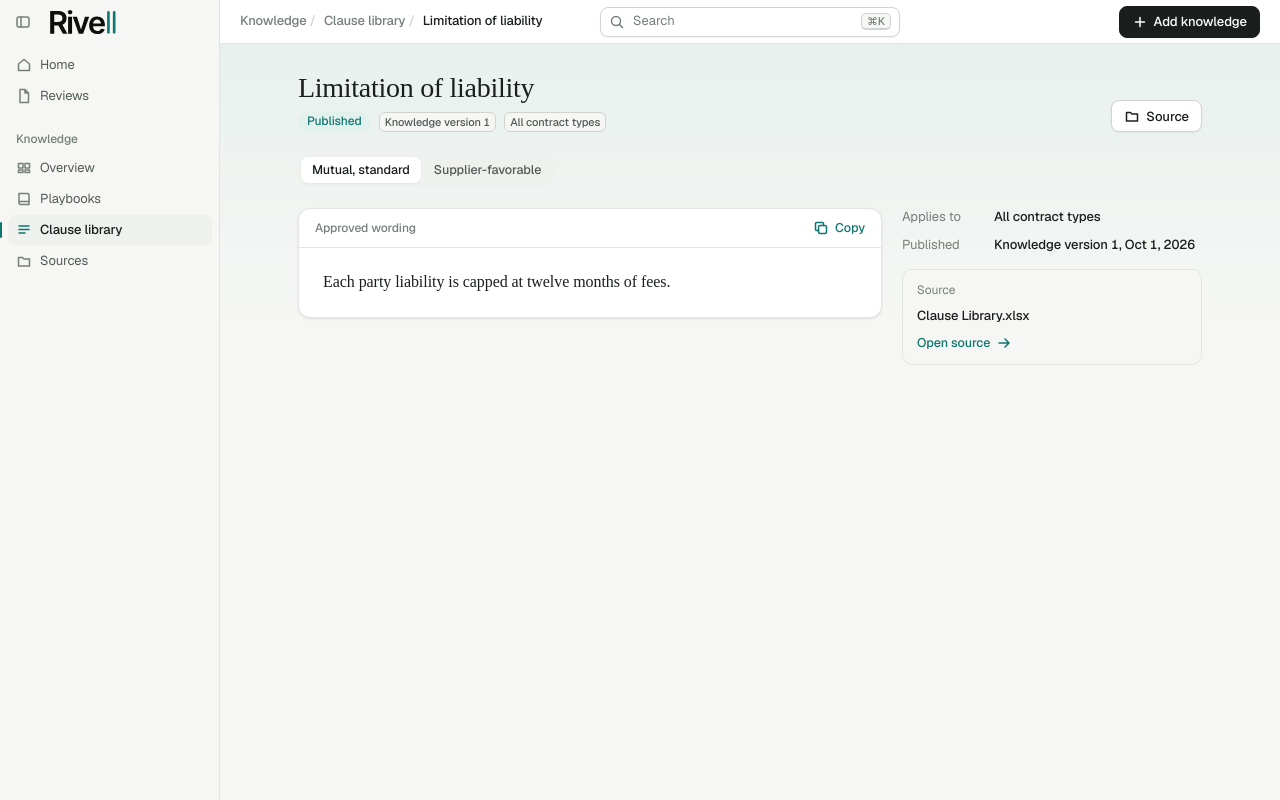
Test: Clause detail › switches variant and shows that variant's own wording and provenance
Check: the heading "Limitation of liability" is shown, box left=298, top=72, right=534, bottom=103
Click the tab "Supplier-favorable": (488, 170) left=423, top=157, right=552, bottom=183
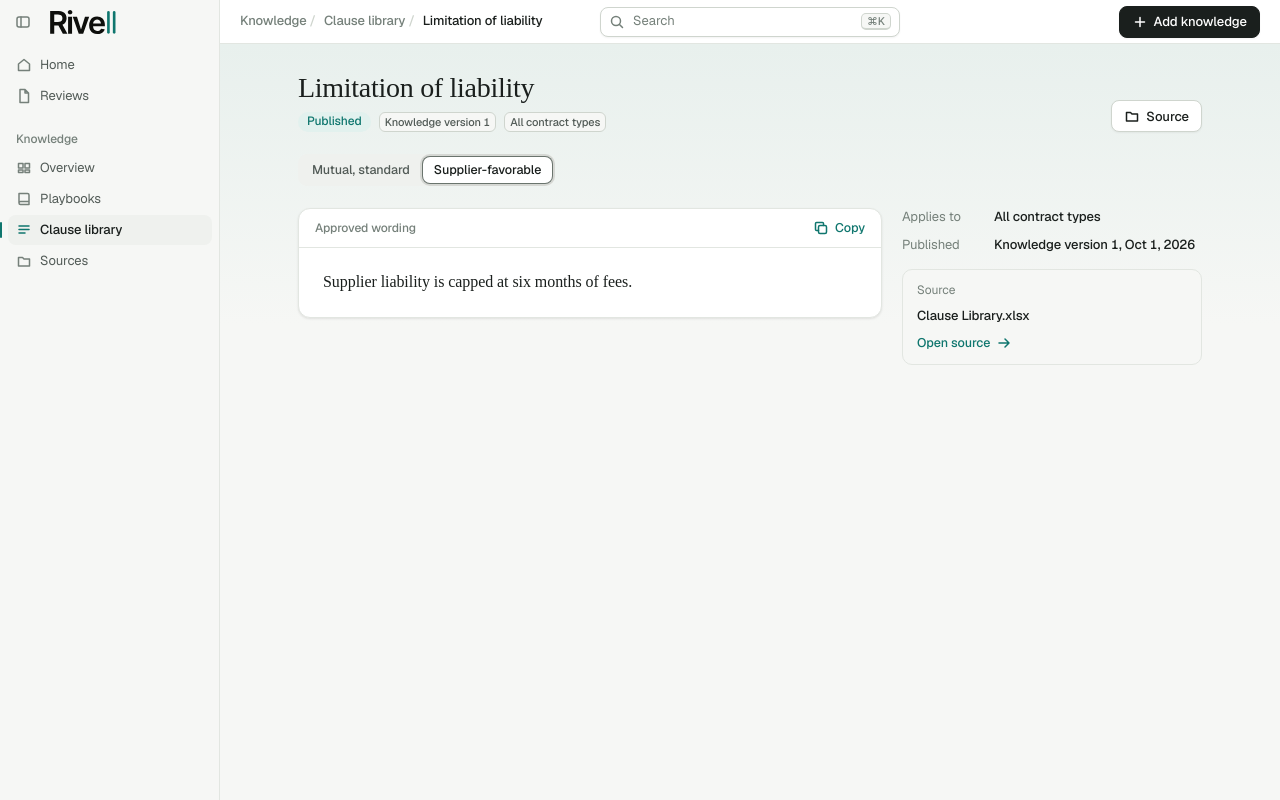
Check: the text "Clause Library.xlsx" is shown, box left=917, top=307, right=1030, bottom=324
Check: the text "Supplier liability is capped at six months of fees." is shown, box left=323, top=273, right=632, bottom=290
Check: the text "Each party liability is capped at twelve months of fees." is gone
